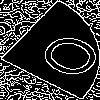O: (24, 25, 100, 83)
